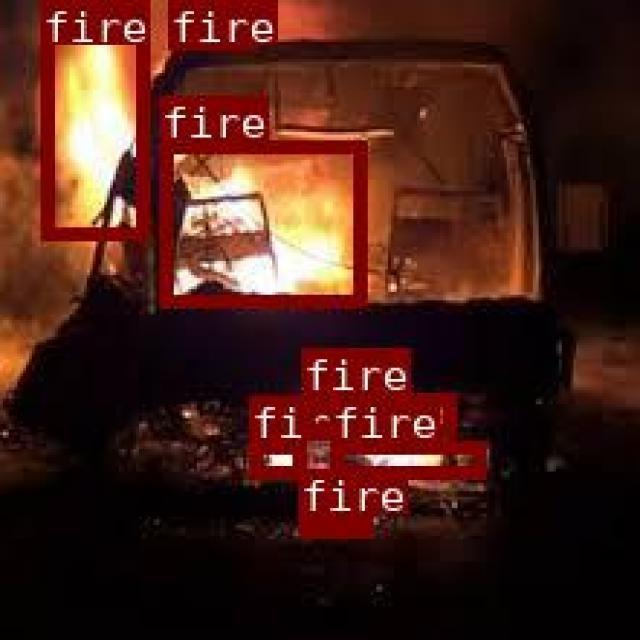fire: (159, 138, 364, 304), (39, 0, 146, 236), (301, 393, 454, 433), (329, 439, 483, 477), (167, 0, 254, 45), (246, 439, 304, 475), (297, 513, 370, 535)
